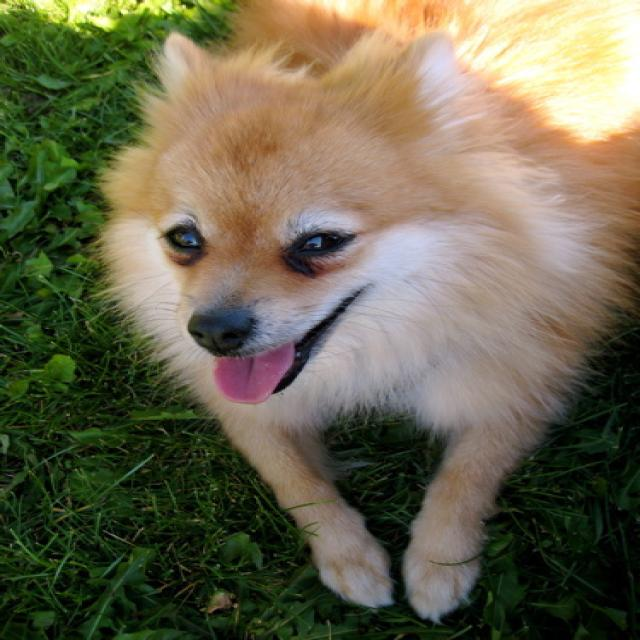dog-pomeranian: (79, 1, 637, 634)
